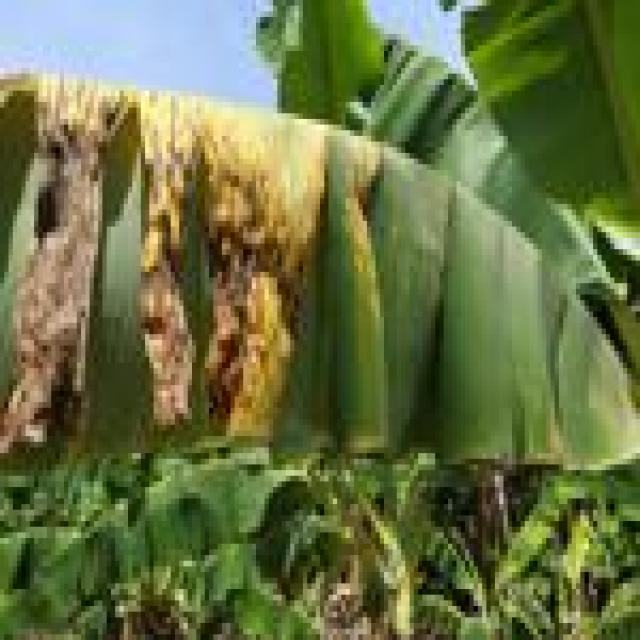Early_rust: (0, 48, 451, 460)
